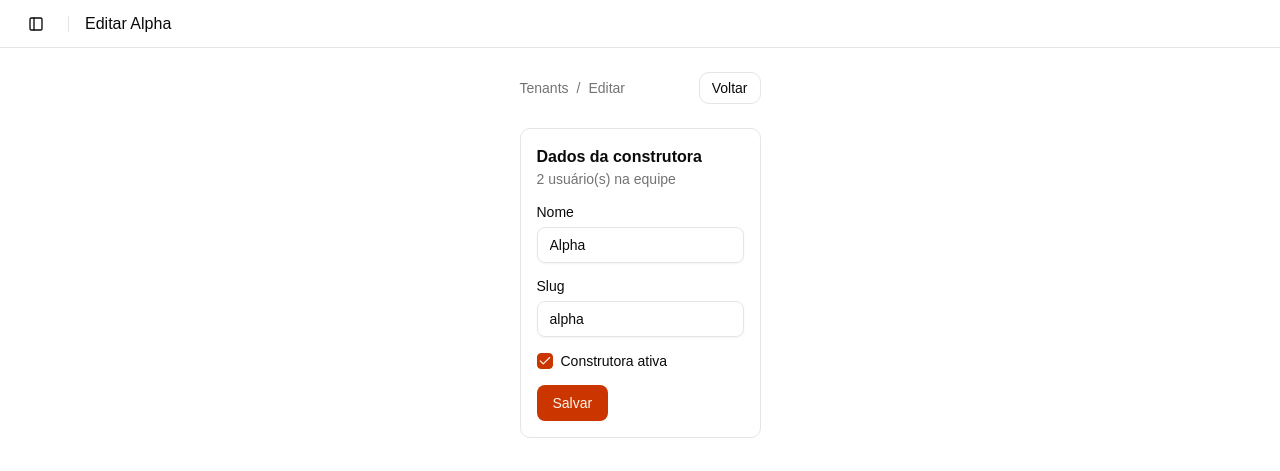
Test case: TenantEditPage › loads tenant and submits update
The width and height of the screenshot is (1280, 471).
Expected: the text "2 usuário(s) na equipe" is shown, [536,171,676,187]
Replace the text in the field labelled "Nome" with "Alpha Atualizada": (640, 245) [536,227,744,263]
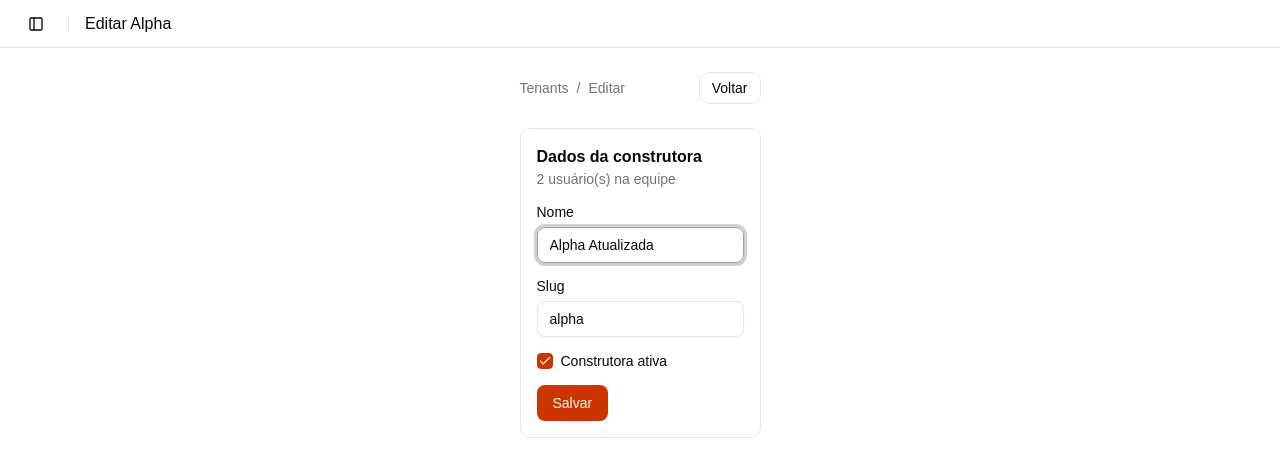
Replace the text in the field labelled "Slug" with "alpha-atualizada": (640, 319) [536,301,744,337]
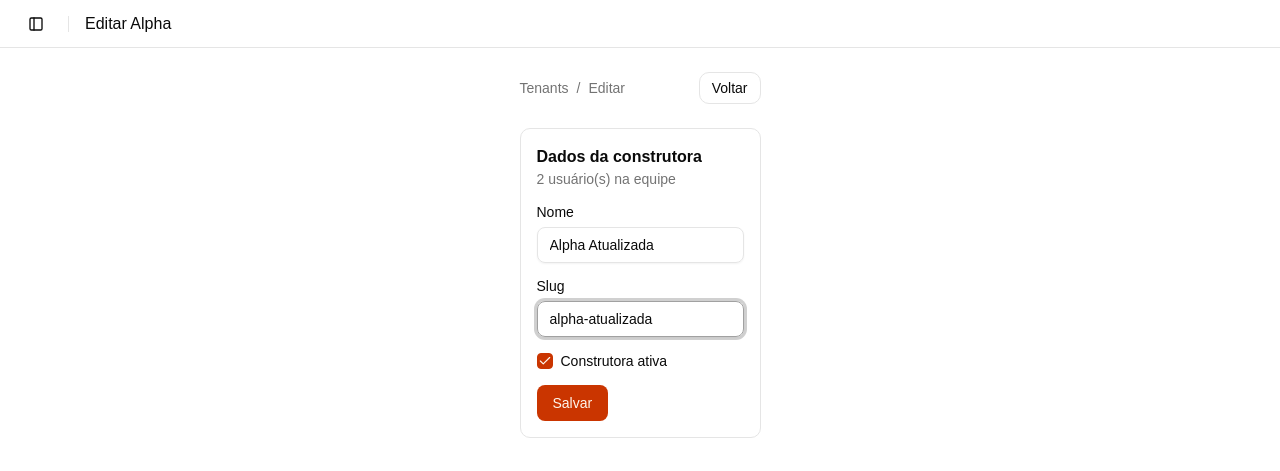
Click the button "Salvar": (572, 403) [536,385,608,421]
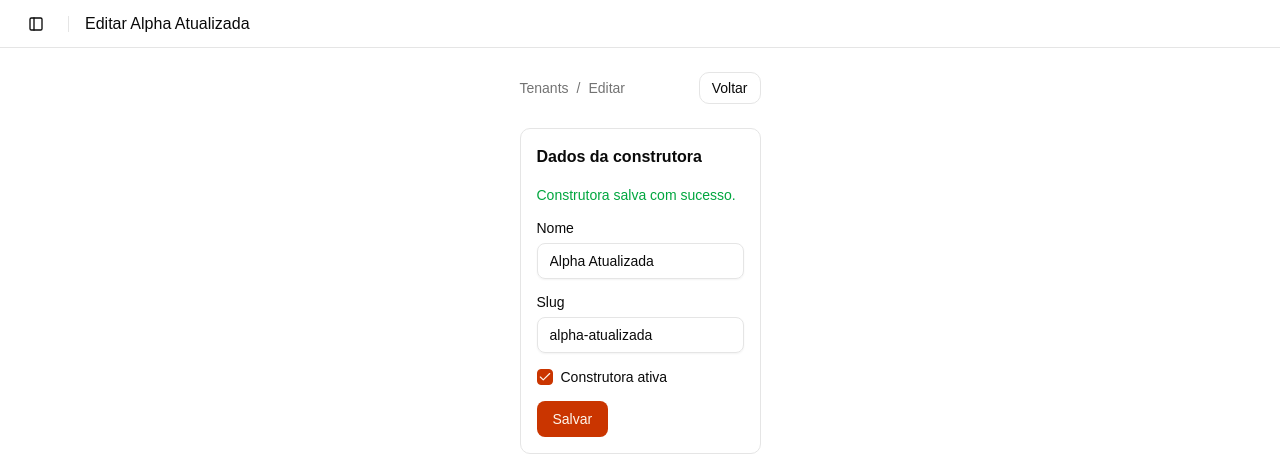
Result: the text "Construtora salva com sucesso." is shown at [536,185,744,205]
